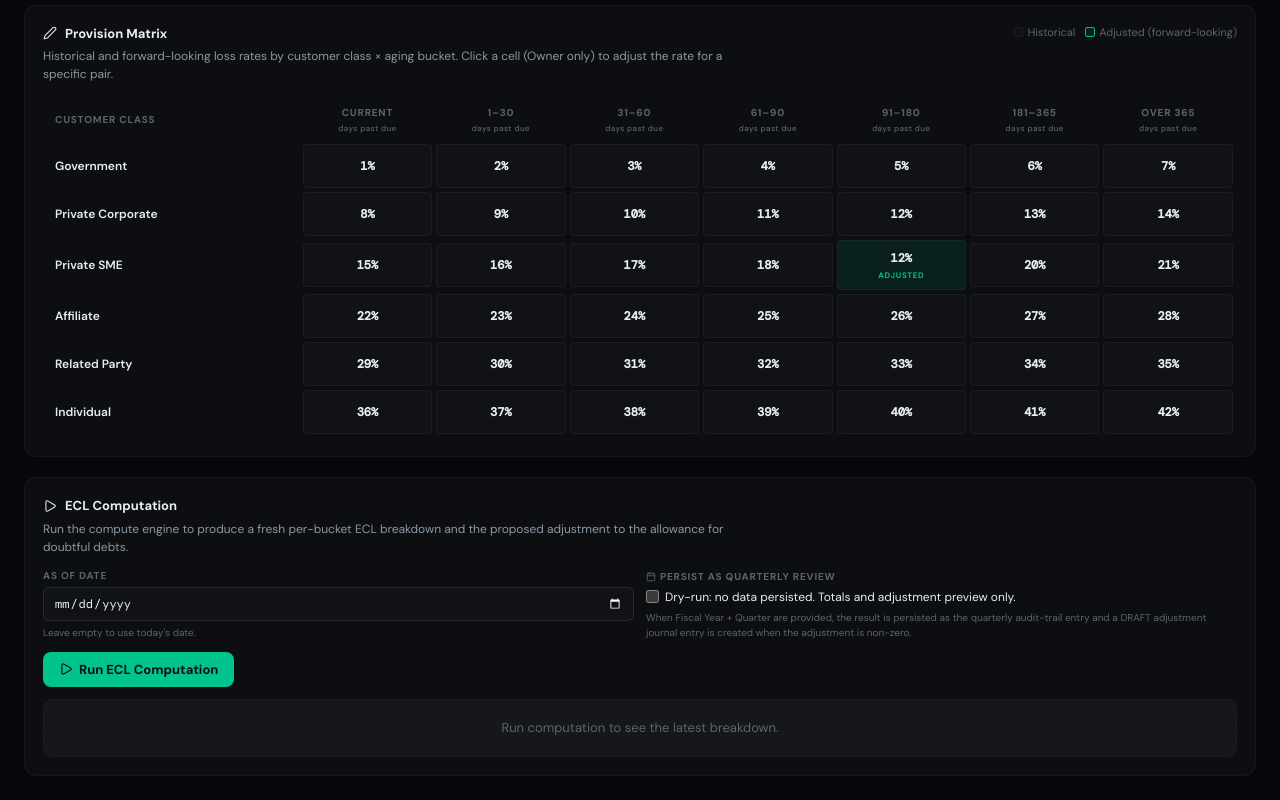
Test: EclScreen — HASEEB-409 › Create Adjustment Entry button appears after a non-zero dry-run and persists on click
(page scrolled)
Check: the element with test id "ecl-matrix-table" is shown, box x1=43 y1=95 x2=1237 y2=438
First run dry → summary + CREATE ADJUSTMENT ENTRY button visible.
Click the button with test id "ecl-run-compute" at [139, 669], box x1=43 y1=652 x2=234 y2=687
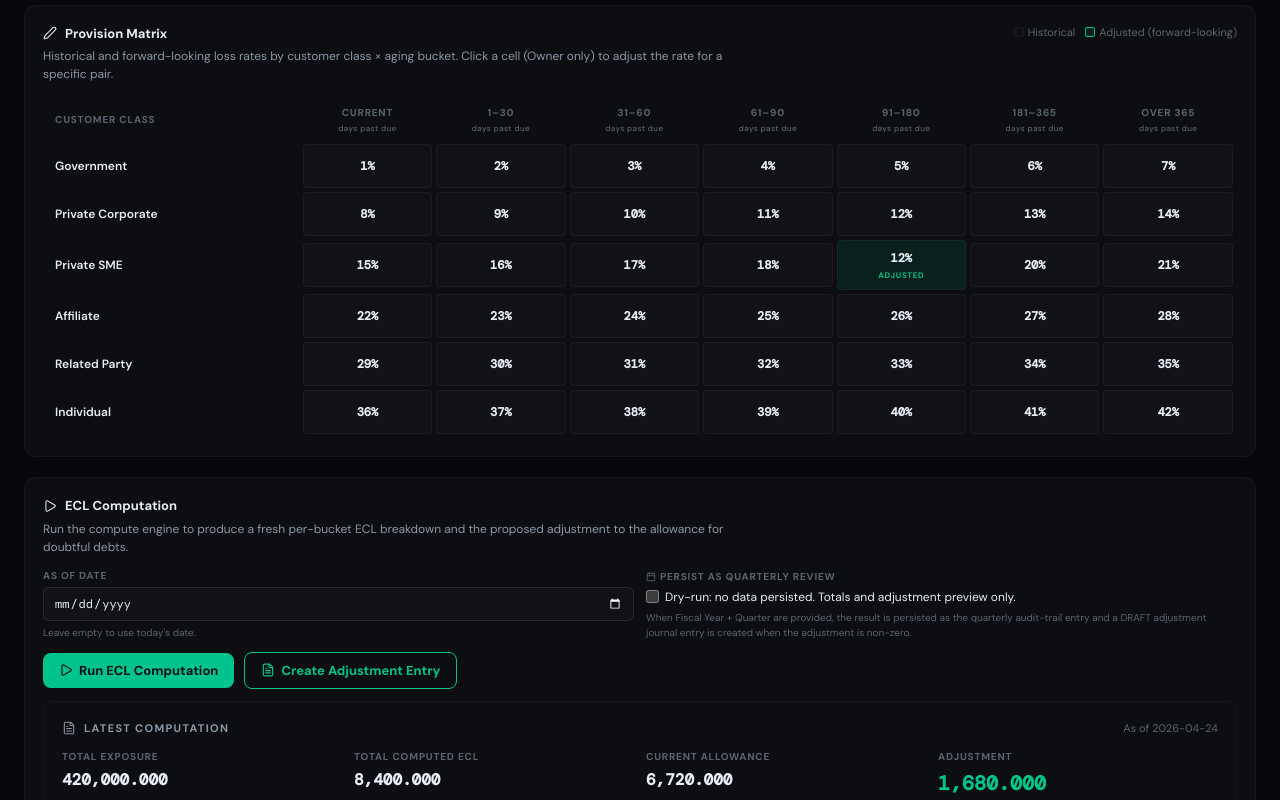
Check: the element with test id "ecl-compute-summary" is shown, box x1=43 y1=701 x2=1237 y2=799
Check: the button with test id "ecl-create-adjustment" is shown
Click the button with test id "ecl-create-adjustment" at [351, 670], box x1=244 y1=652 x2=457 y2=689
(page scrolled)
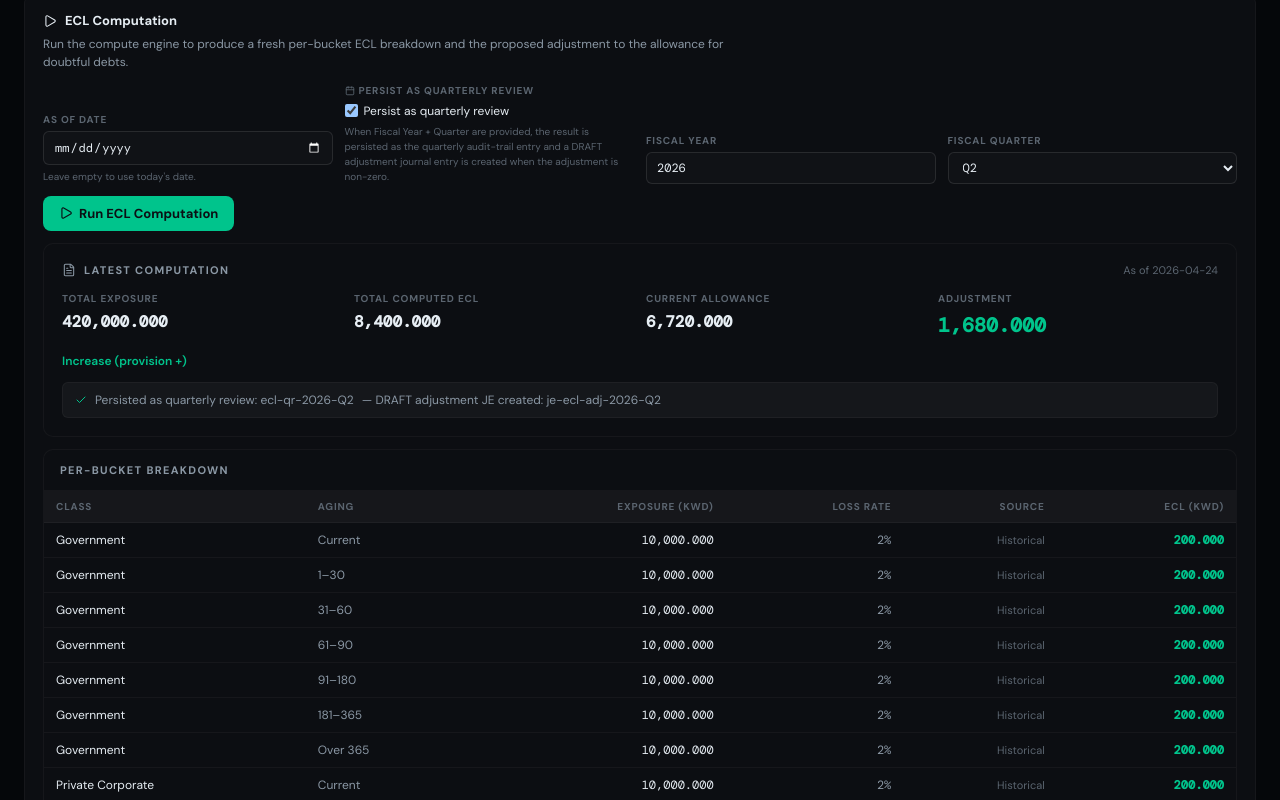
Check: the element with test id "ecl-persisted-banner" is shown, box x1=62 y1=382 x2=1218 y2=418
